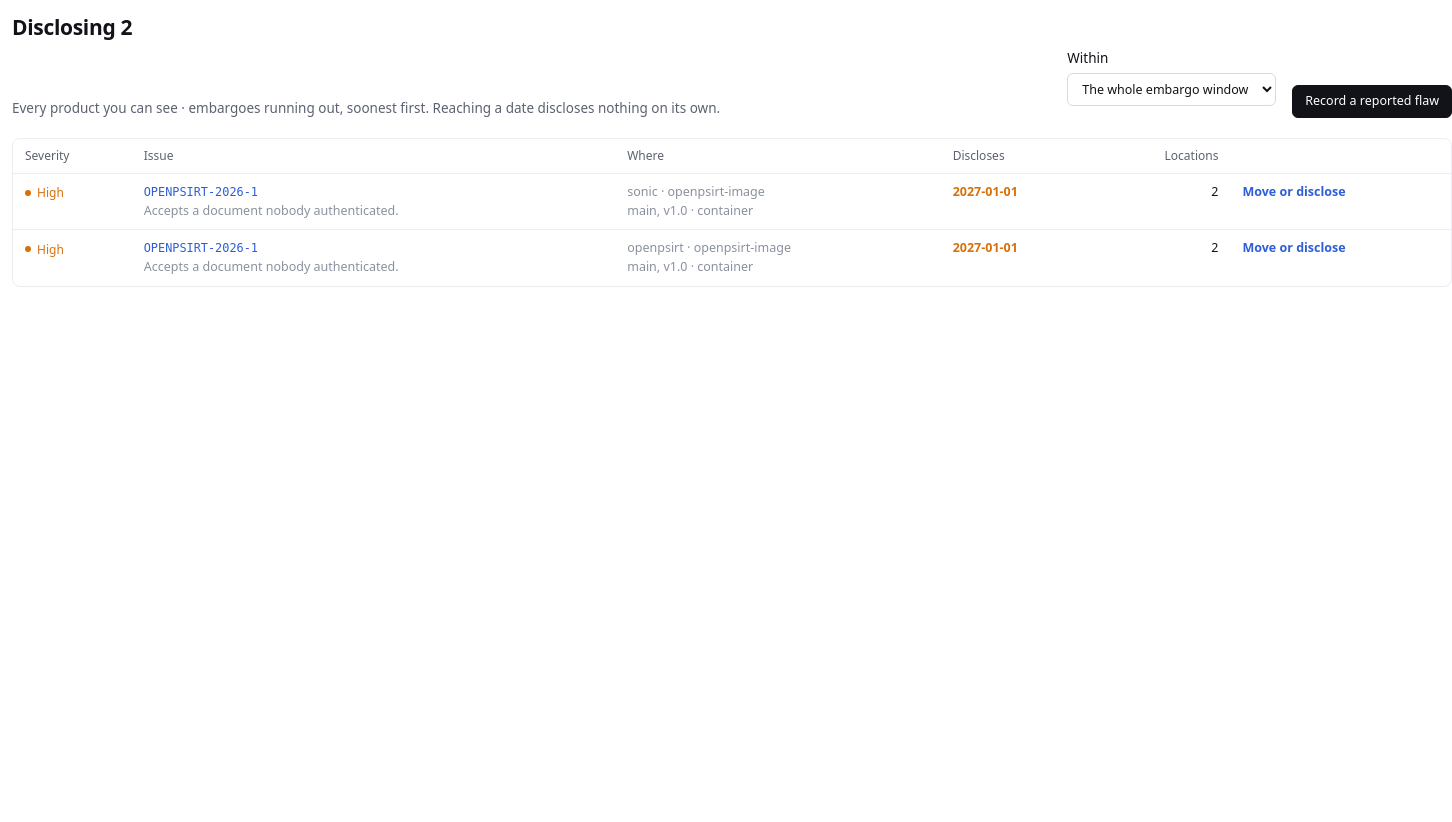
Test case: the disclosing screen › opens the form on the one embargo whose row was pressed
The image size is (1452, 822).
Click the button "Move or disclose" in the row of "sonic · openpsirt-image": (1294, 192) [1242,183,1346,202]
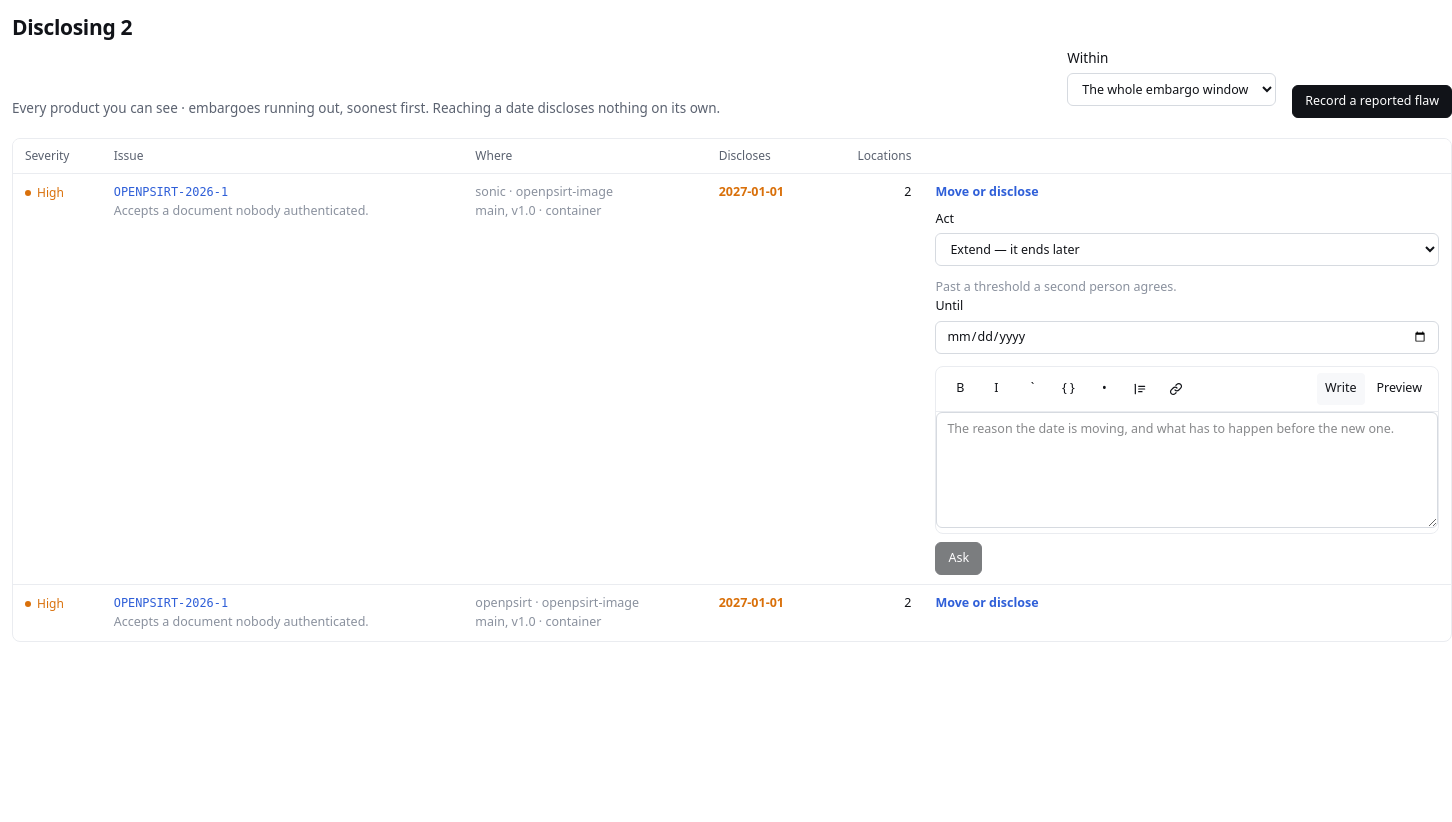
Check: the text "main, v1.0 · container" is shown, box [475,202,601,218]
Check: the number of date fields is 1, box [935,321,1439,354]
